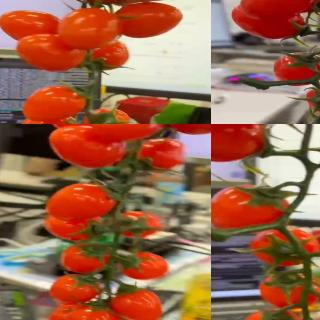tomato: (211, 185, 291, 233), (49, 126, 129, 169), (247, 225, 320, 266), (232, 3, 308, 41), (44, 183, 120, 221), (16, 34, 88, 73), (21, 84, 93, 122), (57, 8, 122, 50), (114, 1, 184, 38), (259, 270, 320, 309), (211, 124, 269, 164), (0, 9, 66, 43), (131, 136, 188, 171), (43, 211, 100, 243), (109, 287, 164, 320), (61, 242, 113, 275), (241, 0, 314, 23), (79, 40, 130, 72), (48, 274, 102, 304), (118, 251, 170, 281), (115, 212, 168, 240), (274, 53, 320, 85), (89, 124, 168, 142), (83, 107, 134, 124), (47, 304, 95, 320), (17, 114, 85, 124), (240, 310, 305, 320), (68, 307, 115, 320), (306, 83, 320, 115), (42, 124, 101, 131)
